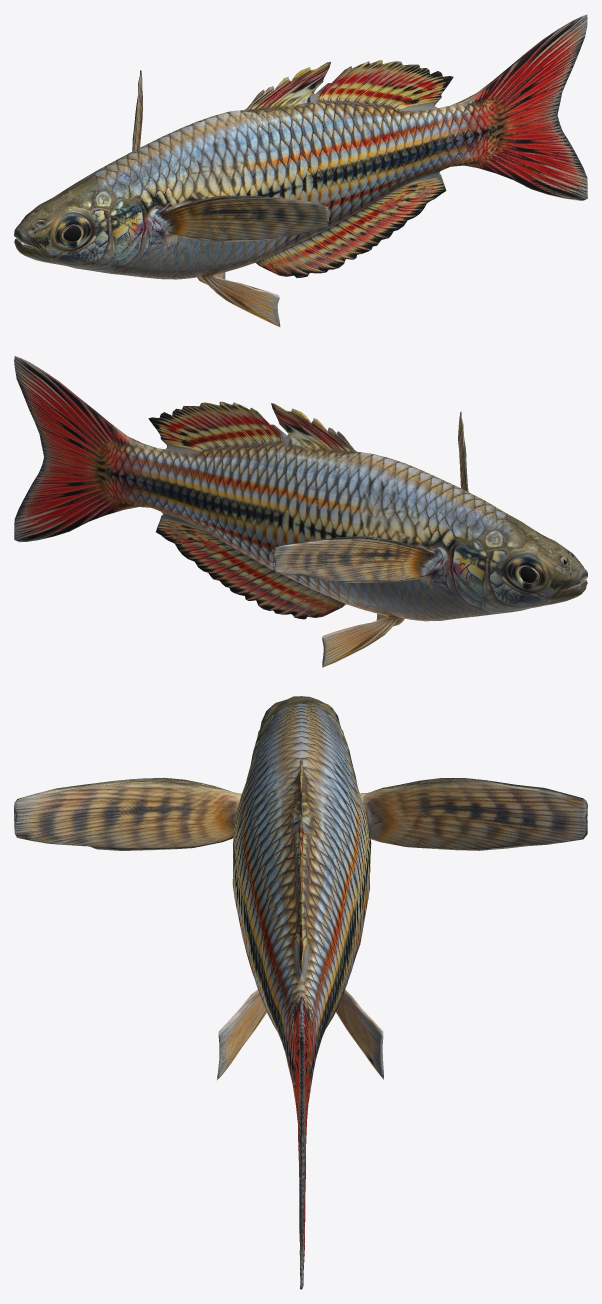
File: meshy_bedotia_texture.glb
The picture shows the model from 3 angles, top to bottom: view 1: azimuth 30°, elevation 25°; view 2: azimuth 150°, elevation 25°; view 3: azimuth 270°, elevation 25°; orthographic projection. The views are drawn at different scales.
Size of the model in its own units: 1 by 0.3808 by 0.57.
Materials: 1 (1 with a texture image).
